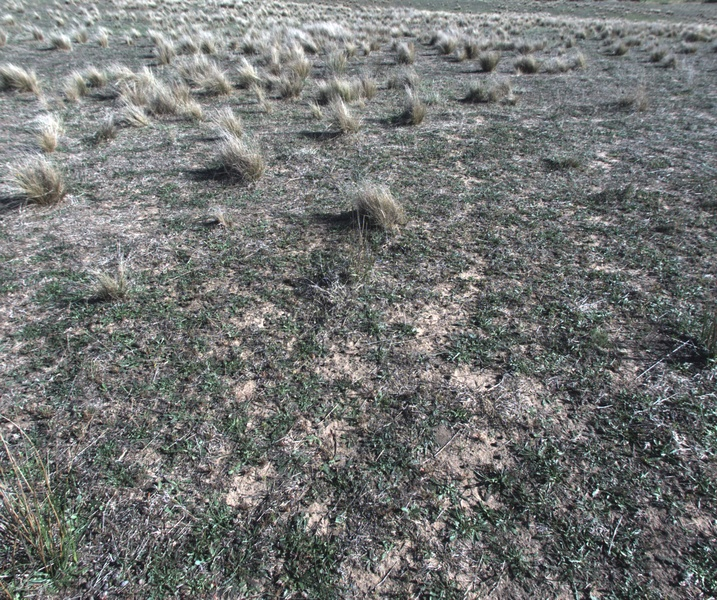st: (348, 182, 409, 244), (8, 154, 71, 214), (114, 69, 169, 119), (215, 140, 262, 181), (404, 87, 437, 129), (90, 268, 134, 299), (331, 96, 363, 137), (233, 57, 266, 89), (195, 69, 229, 99), (216, 103, 242, 142), (1, 65, 35, 92), (151, 38, 180, 67), (319, 76, 352, 100), (462, 77, 488, 105), (63, 69, 85, 102), (179, 97, 203, 126), (387, 70, 418, 92), (395, 40, 417, 67), (40, 114, 56, 151), (278, 72, 300, 98), (479, 51, 500, 73), (569, 48, 587, 73), (608, 40, 629, 60), (83, 63, 101, 86), (435, 30, 450, 56), (52, 36, 76, 51), (304, 104, 320, 125), (291, 57, 306, 79), (661, 53, 678, 72), (517, 58, 537, 74), (178, 33, 193, 53), (648, 43, 661, 66), (94, 30, 111, 47), (450, 42, 466, 59), (200, 37, 213, 56), (75, 28, 84, 45), (27, 28, 40, 39)
